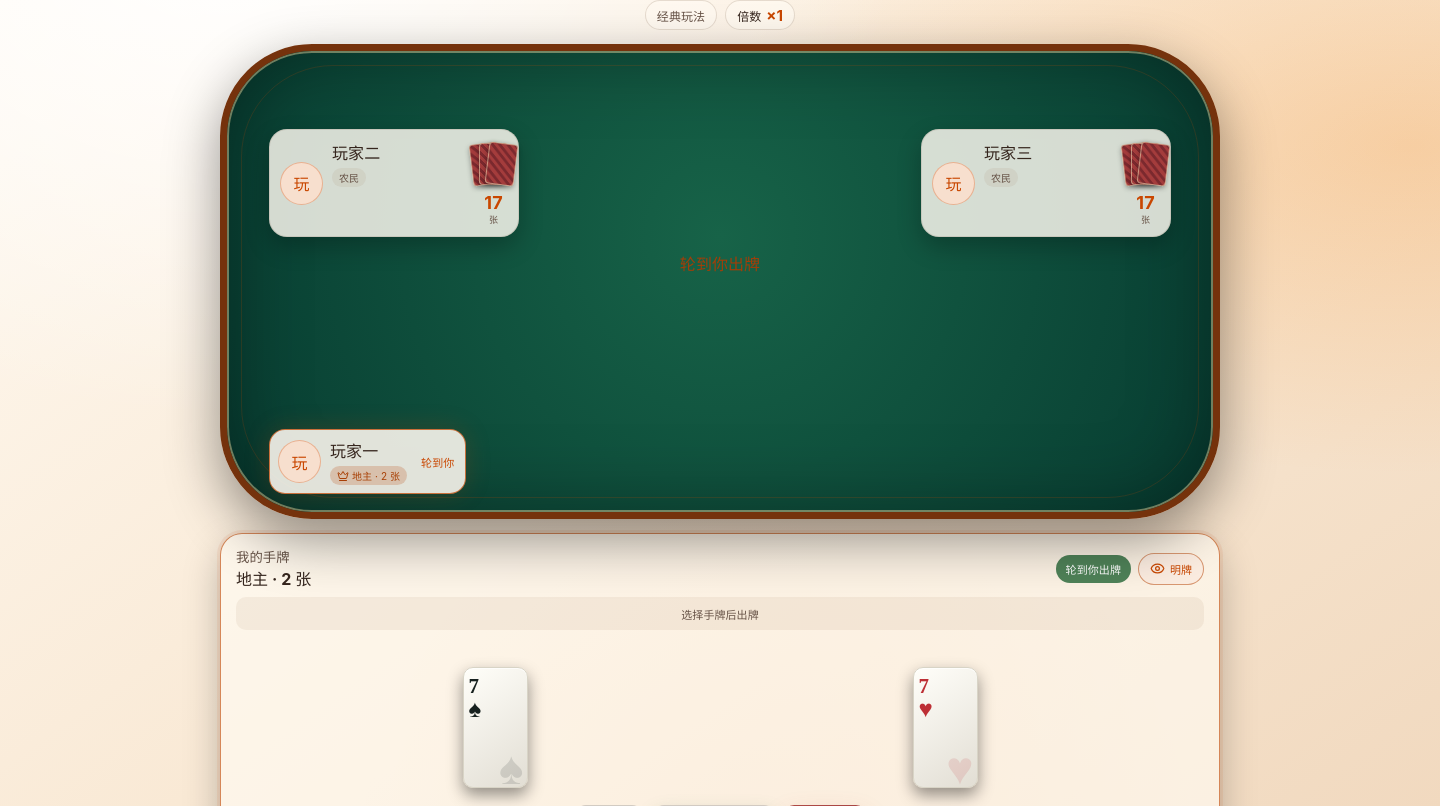
Test case: DoudizhuTable › renders the three-seat table and explains the selected pattern
The width and height of the screenshot is (1440, 806).
Expected: the element with class "landlord-felt" is shown, [220,44,1220,519]
Expected: the number of elements with class "opponent" is 2, [269,129,519,237]; [921,129,1171,237]
Click the button "7 ♠ ♠". click: point(495, 728)
box: [462,667,528,788]
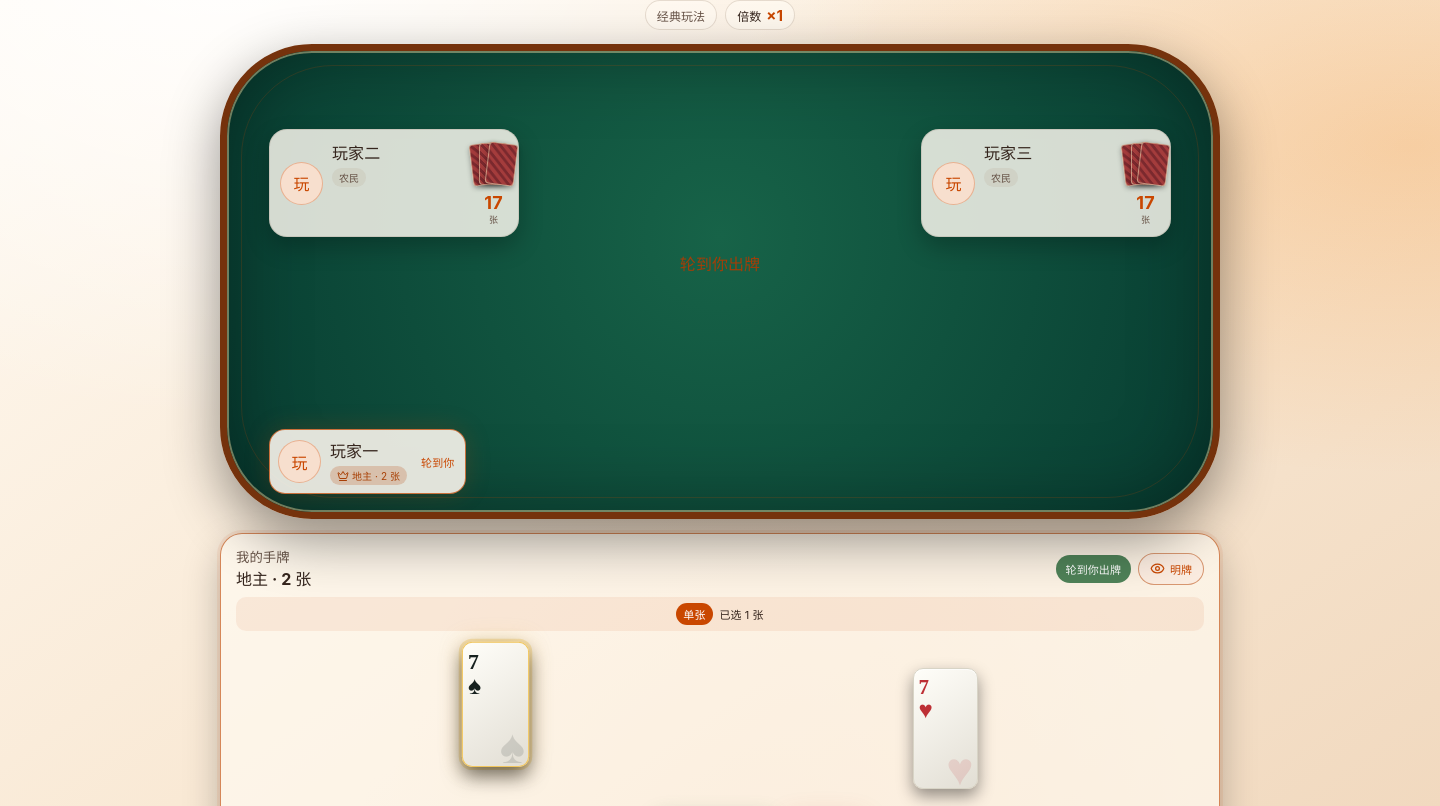
Click the button "7 ♥ ♥". click: point(945, 728)
box: [912,668,978,789]
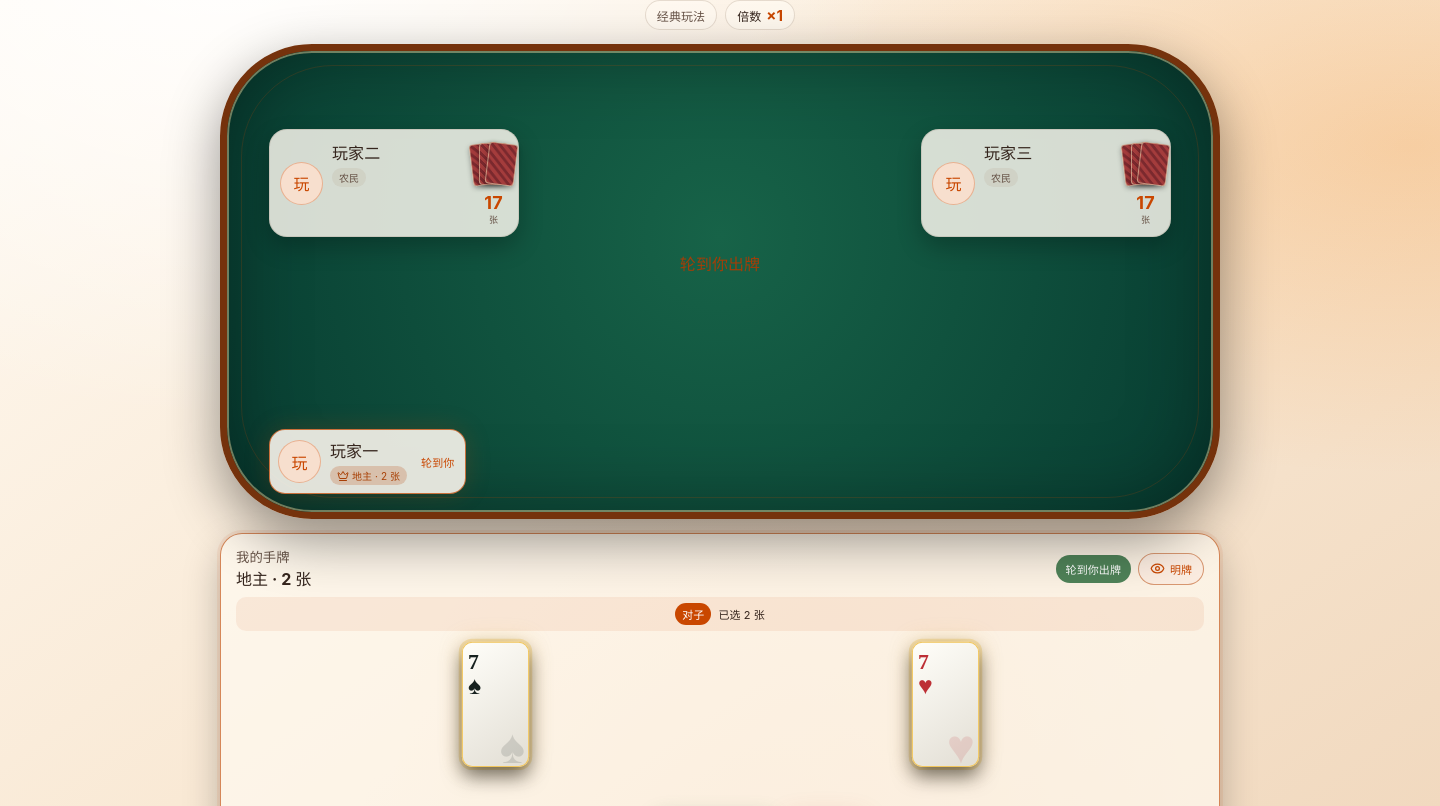
Now the message with class "selection-feedback" shows "对子", box [682,608,704,622]
Now the message with class "selection-feedback" shows "已选 2 张", box [718,608,765,622]
